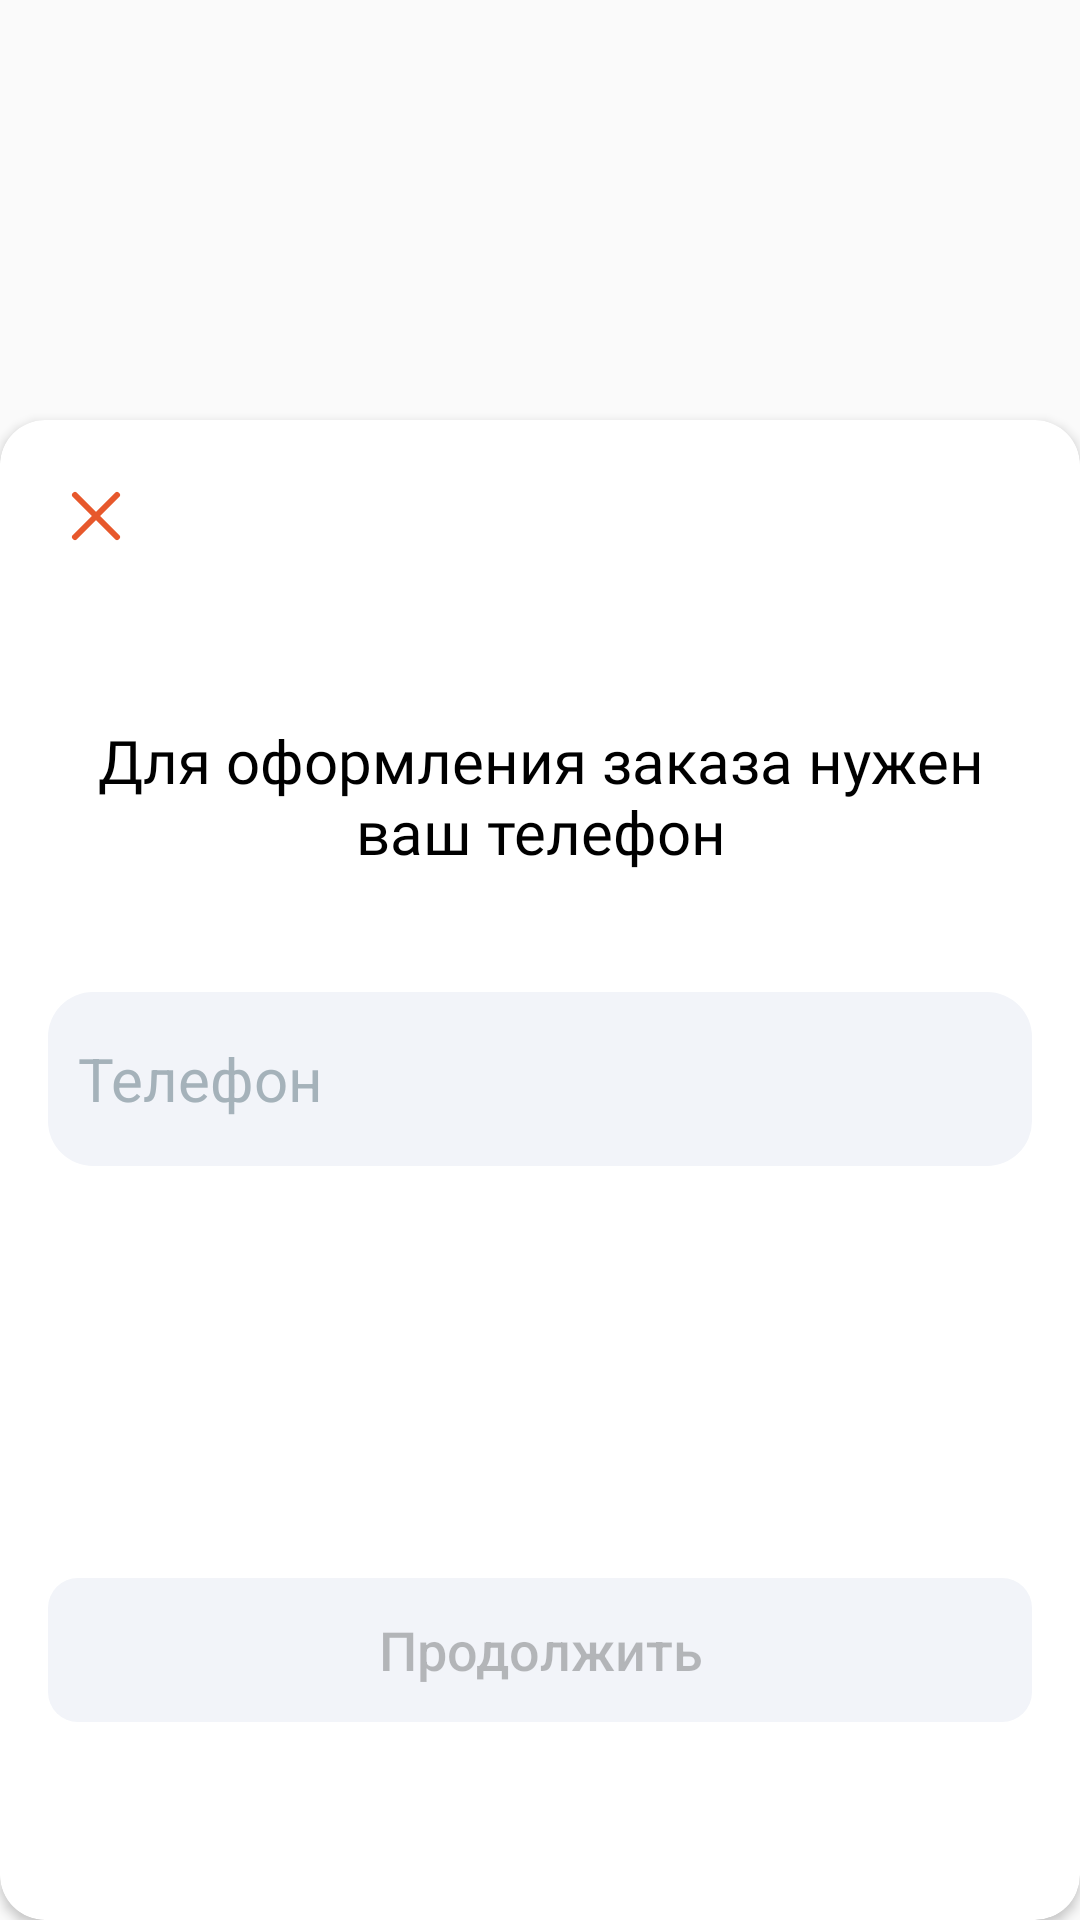

Where to tap for icons on this 1080 x 1920 app screen, as point (x, y):
close: point (96, 516)
